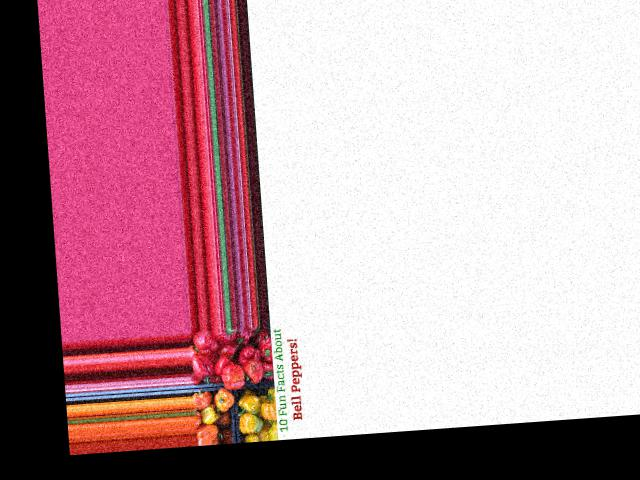bell_pepper: (254, 336, 276, 368)
